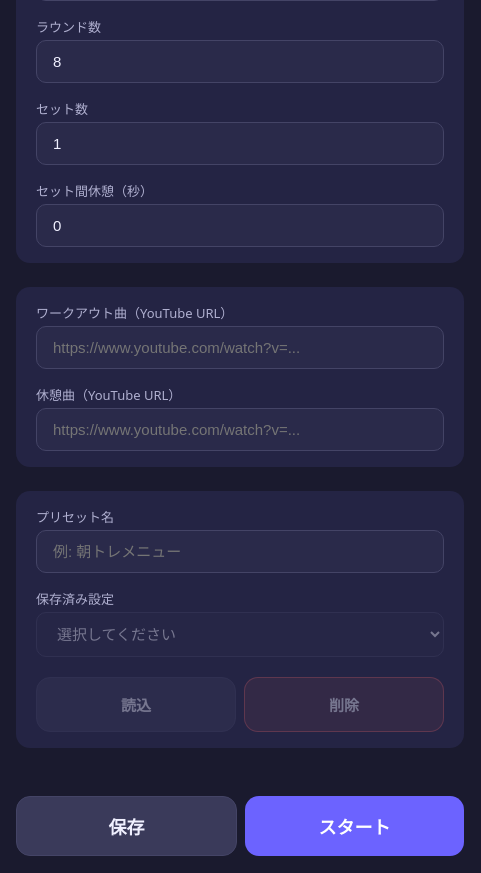
App 統合テスト › タイマー実行中にコントロールボタンが表示される
(page scrolled)
Click the button "スタート": [354, 826] box top-left (245, 796), bottom-right (464, 856)
(page scrolled)
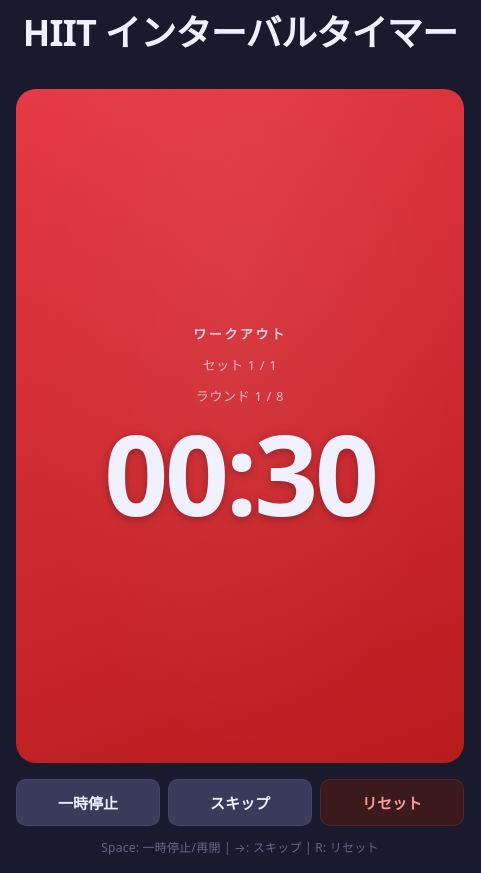
Result: the button labelled "一時停止" is shown at top-left (16, 779), bottom-right (160, 826)
Result: the button labelled "スキップ" is shown at top-left (168, 779), bottom-right (312, 826)
Result: the button labelled "リセット" is shown at top-left (320, 779), bottom-right (464, 826)
